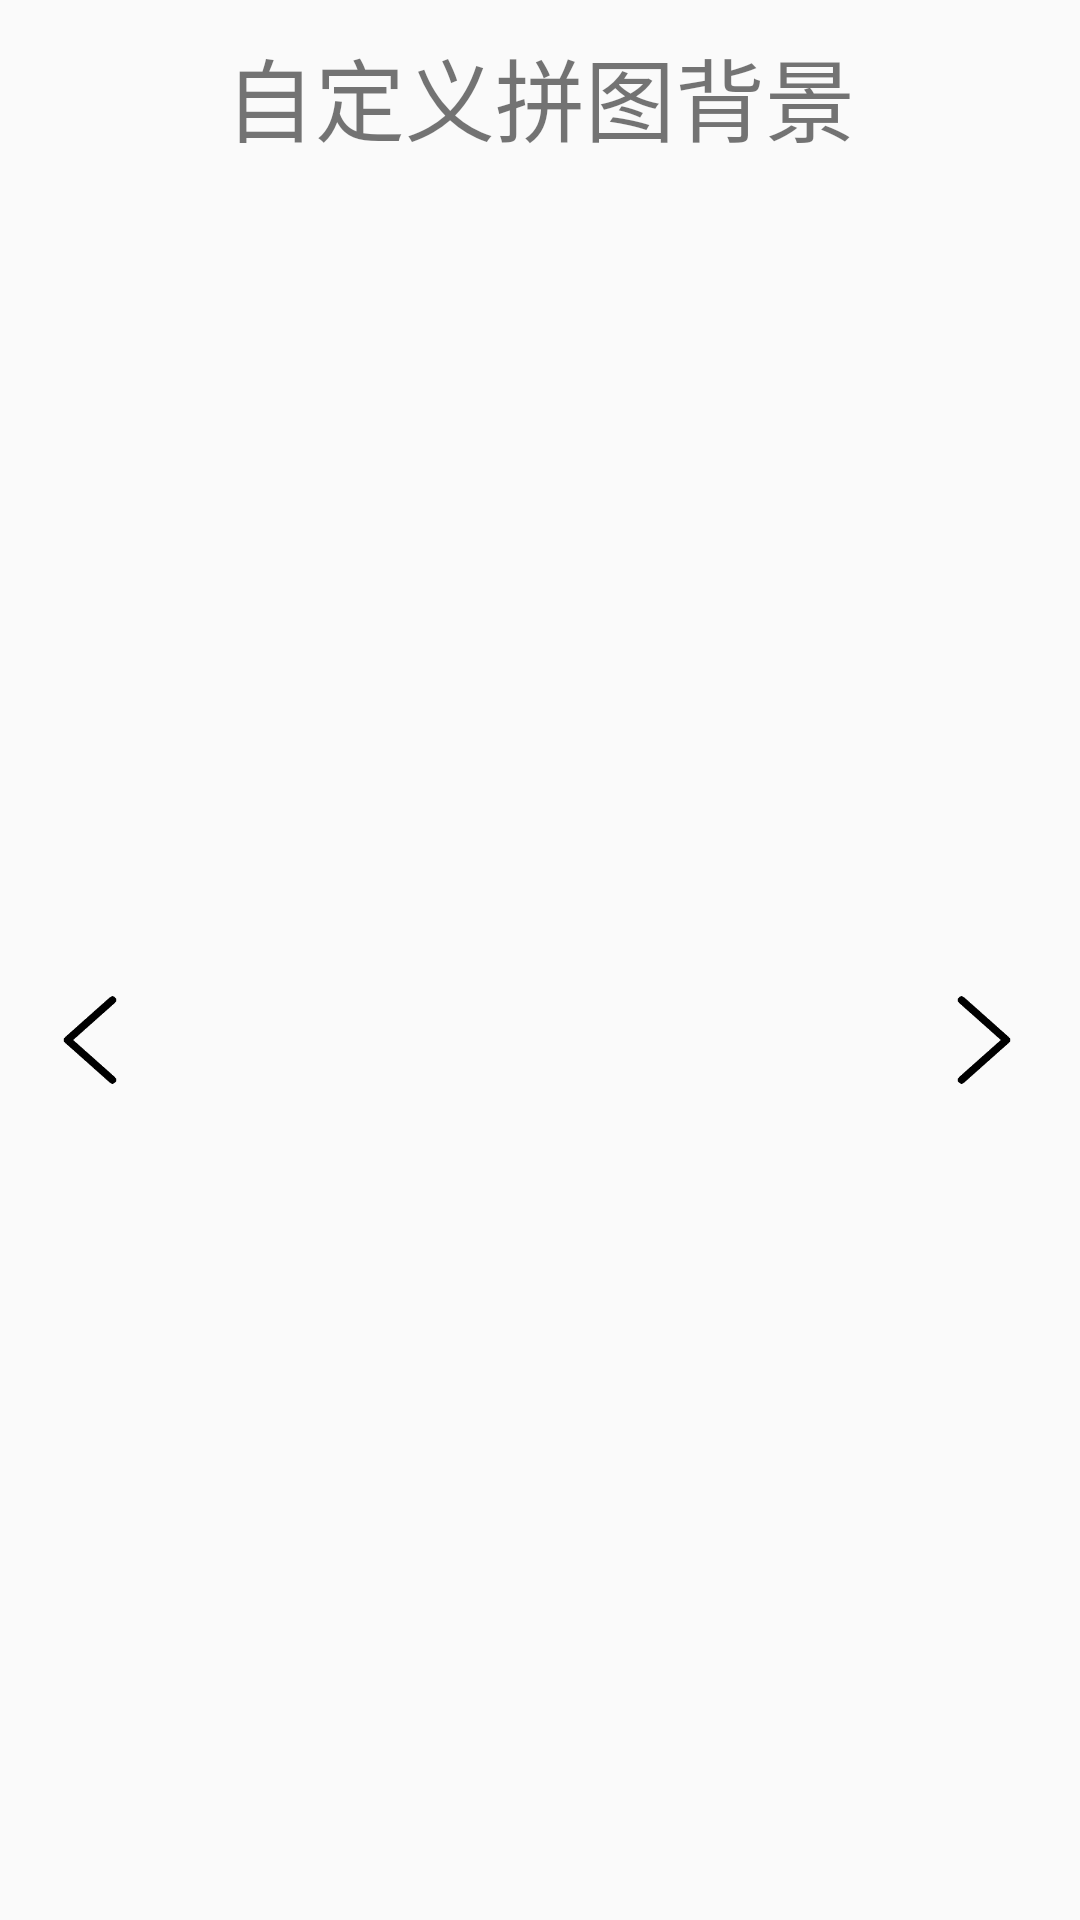

Point at icon controls on the screen. Image size 1080px×1920px, points as point (x, y).
arrowleft: point (90, 1040)
arrowright: point (984, 1040)
